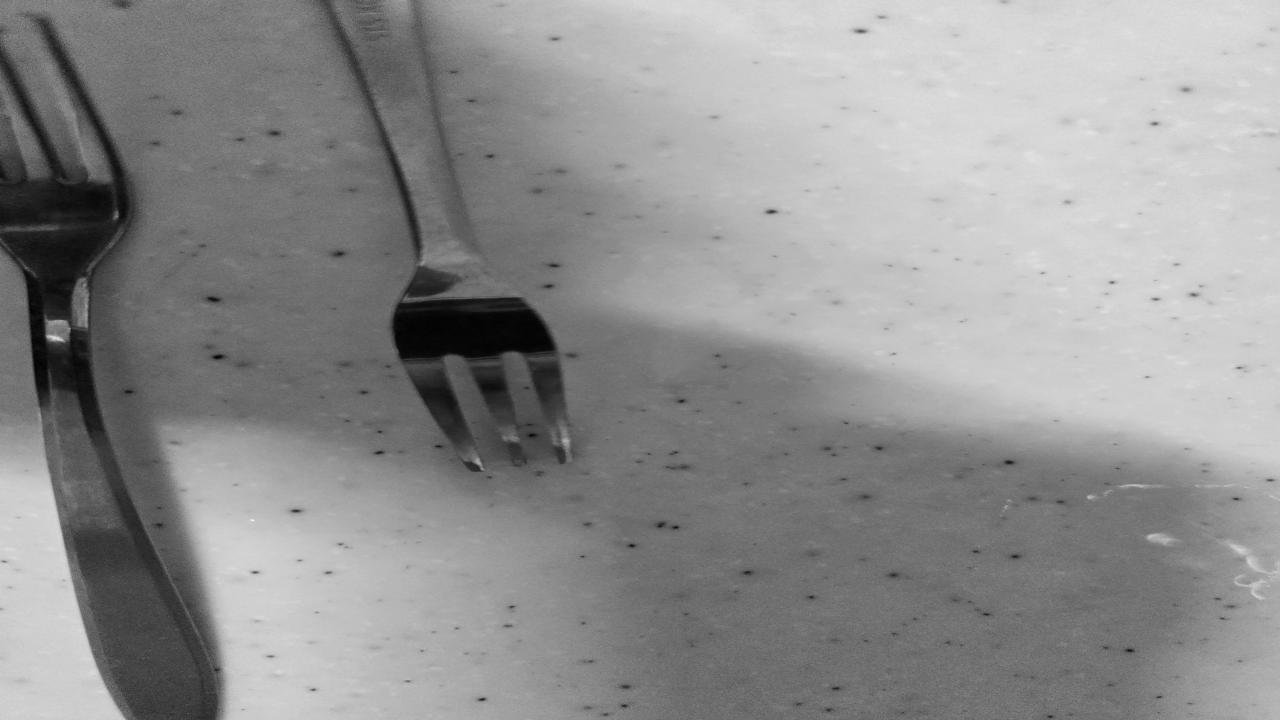fork: (0, 11, 231, 714), (303, 0, 571, 469)
